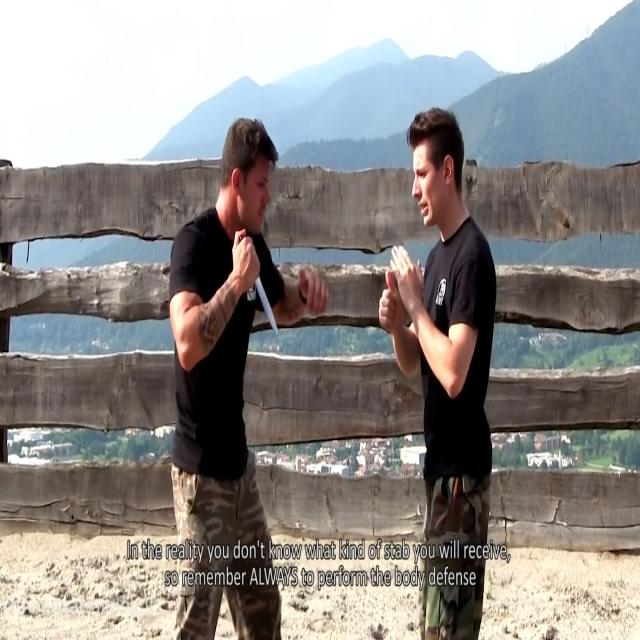knife: (255, 270, 283, 342)
